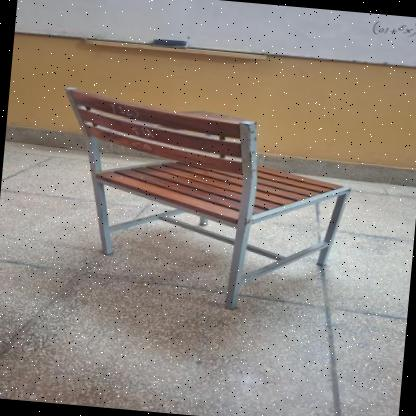chair: (38, 80, 367, 325)
